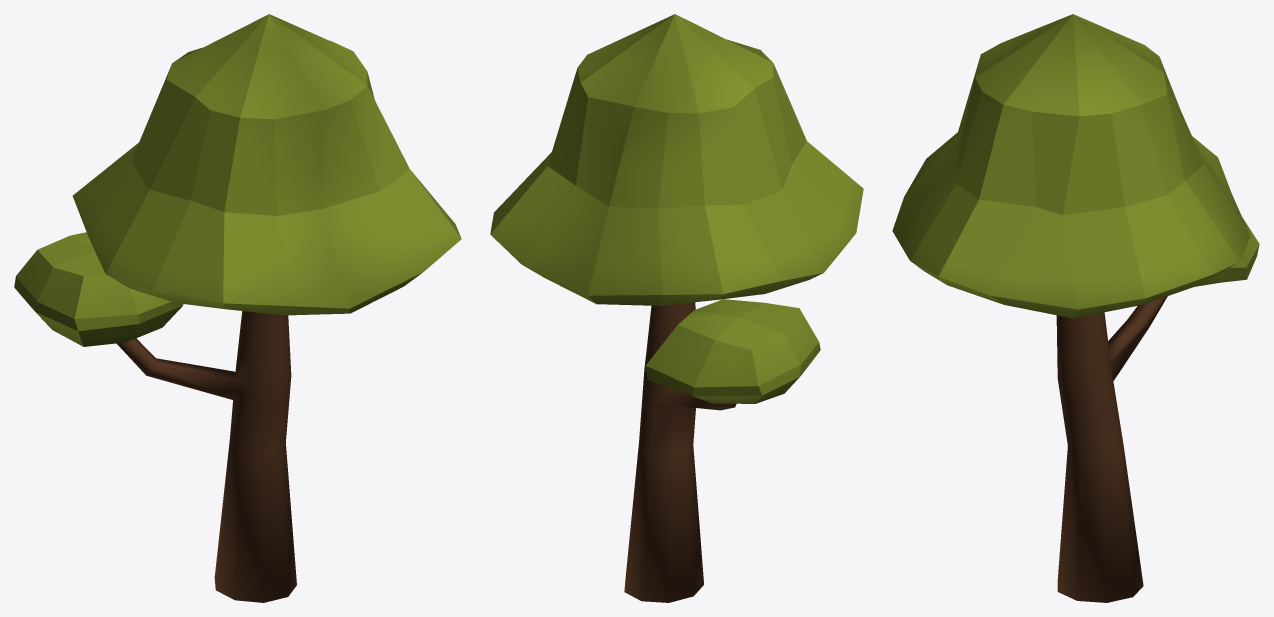
The model's file is Arbol.fbx.
3 views of the same model, side by side, from view 1: azimuth 30°, elevation 25°; view 2: azimuth 150°, elevation 25°; view 3: azimuth 270°, elevation 25° (orthographic). The views are drawn at different scales.
Parts seen in each view (by area): view 1: Cube.001, Cylinder, Cube; view 2: Cube.001, Cylinder, Cube; view 3: Cube.001, Cylinder, Cube.
Boxes of the visible parts, bbox=[...] form: Cube.001: bbox=[72, 14, 461, 315]; Cylinder: bbox=[116, 311, 296, 602]; Cube: bbox=[14, 232, 183, 346]; Cube.001: bbox=[490, 14, 863, 305]; Cylinder: bbox=[624, 302, 736, 602]; Cube: bbox=[645, 299, 820, 403]; Cube.001: bbox=[892, 14, 1250, 318]; Cylinder: bbox=[1056, 296, 1167, 602]; Cube: bbox=[1196, 218, 1259, 286].
Bounding box in the file's own units: 828 × 1375 × 799.
